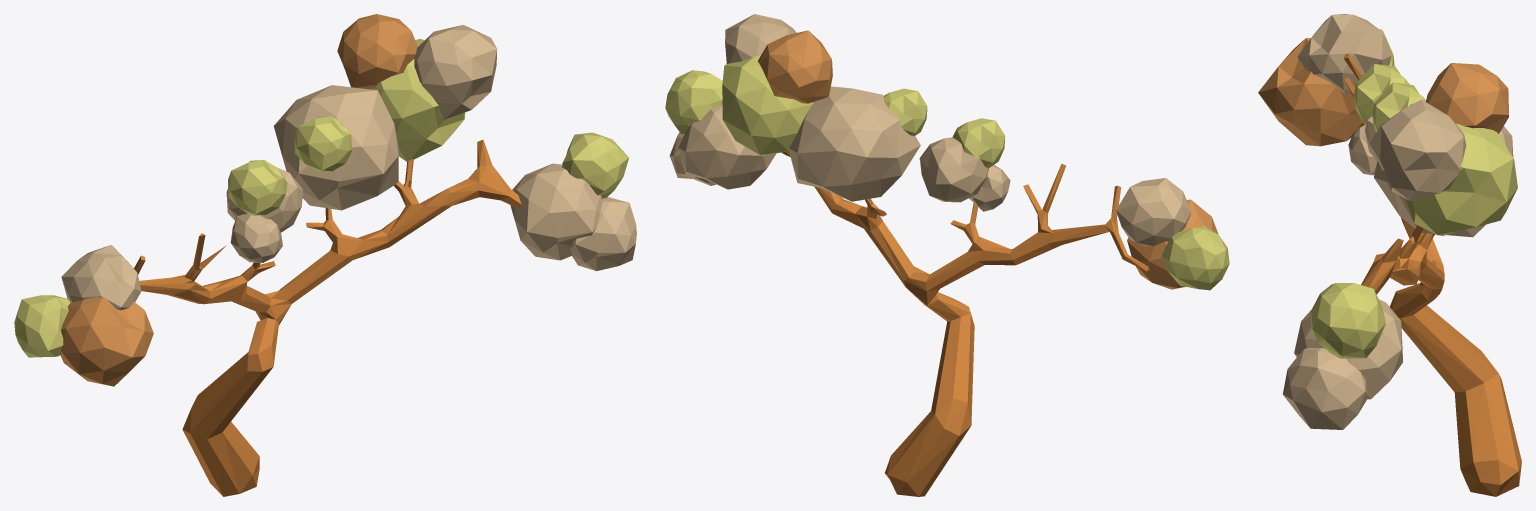
Rendered from tree.dae.
3 views of the same model, side by side, from view 1: azimuth 30°, elevation 25°; view 2: azimuth 150°, elevation 25°; view 3: azimuth 270°, elevation 25° (orthographic). The views are drawn at different scales.
Visible parts, largest first — view 1: Cube, Icosphere_012, Icosphere_001, Icosphere_005, Icosphere_008, Icosphere_007, Icosphere_006, Icosphere_003, Icosphere_000, Icosphere_004, Icosphere_002, Icosphere_009 (+3 smaller); view 2: Cube, Icosphere_012, Icosphere_006, Icosphere_005, Icosphere_007, Icosphere_003, Icosphere_002, Icosphere_011, Icosphere_004, Icosphere_008, Icosphere_001, Icosphere_009 (+2 smaller); view 3: Cube, Icosphere_008, Icosphere_006, Icosphere_001, Icosphere_000, Icosphere_004, Icosphere_003, Icosphere_007, Icosphere_005, Icosphere_009, Icosphere_013, Icosphere_012 (+1 smaller).
Boxes of the visible parts, left/top/right/bottom form: Cube: left=134, top=140, right=521, bottom=496; Icosphere_012: left=273, top=85, right=398, bottom=210; Icosphere_001: left=60, top=297, right=153, bottom=386; Icosphere_005: left=510, top=163, right=602, bottom=260; Icosphere_008: left=414, top=25, right=497, bottom=119; Icosphere_007: left=337, top=14, right=417, bottom=89; Icosphere_006: left=371, top=38, right=465, bottom=162; Icosphere_003: left=61, top=245, right=141, bottom=310; Icosphere_000: left=570, top=197, right=636, bottom=271; Icosphere_004: left=562, top=132, right=628, bottom=198; Icosphere_002: left=14, top=295, right=70, bottom=357; Icosphere_009: left=228, top=160, right=287, bottom=215; Cube: left=781, top=151, right=1149, bottom=496; Icosphere_012: left=789, top=86, right=920, bottom=201; Icosphere_006: left=722, top=55, right=813, bottom=154; Icosphere_005: left=678, top=104, right=776, bottom=189; Icosphere_007: left=757, top=30, right=832, bottom=103; Icosphere_003: left=1116, top=178, right=1191, bottom=246; Icosphere_002: left=1161, top=226, right=1229, bottom=290; Icosphere_011: left=919, top=137, right=988, bottom=202; Icosphere_004: left=665, top=70, right=722, bottom=134; Icosphere_008: left=725, top=14, right=796, bottom=63; Icosphere_001: left=1127, top=199, right=1218, bottom=289; Icosphere_009: left=952, top=118, right=1005, bottom=168; Cube: left=1343, top=53, right=1521, bottom=496; Icosphere_008: left=1369, top=99, right=1466, bottom=200; Icosphere_006: left=1405, top=124, right=1517, bottom=235; Icosphere_001: left=1258, top=38, right=1363, bottom=146; Icosphere_000: left=1282, top=348, right=1367, bottom=429; Icosphere_004: left=1311, top=283, right=1385, bottom=358; Icosphere_003: left=1297, top=14, right=1391, bottom=94; Icosphere_007: left=1426, top=63, right=1508, bottom=134; Icosphere_005: left=1294, top=299, right=1403, bottom=399; Icosphere_009: left=1354, top=63, right=1409, bottom=123; Icosphere_013: left=1372, top=82, right=1425, bottom=132; Icosphere_012: left=1374, top=101, right=1513, bottom=237.
Size of the model in its own units: 9.18 by 3.15 by 6.59.
